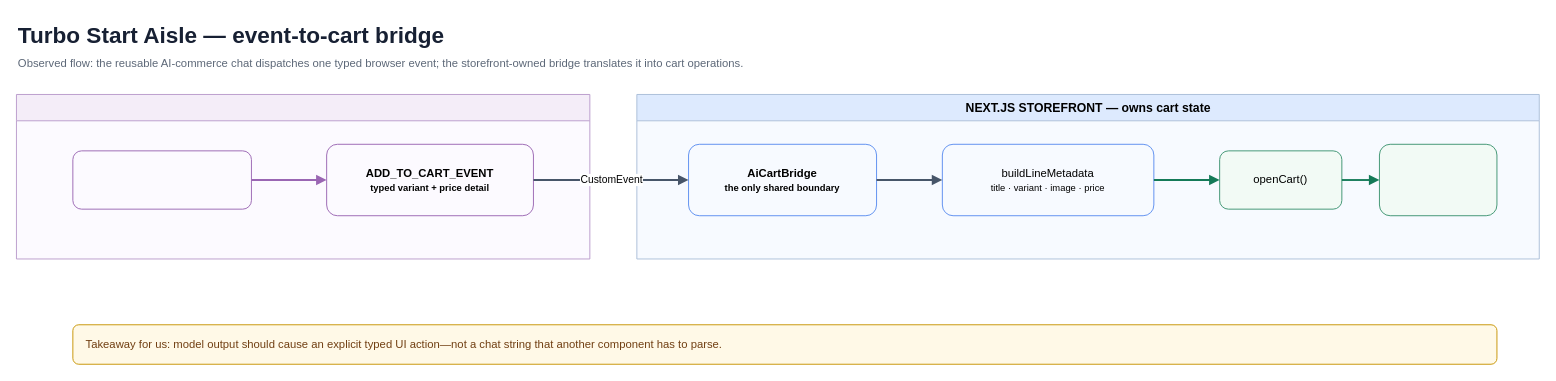
The diagram is 1556 pixels wide and 381 high, and some of its shapes have lost their labels. The shapes that lost their labels are listed below. From the top down, each one's box as (x1, y1, x2, y2) in pixels, then its label:
(72, 150, 251, 209): Chat user selects “Add to cart”
(16, 94, 590, 259): AI-COMMERCE PACKAGE
(1379, 143, 1497, 216): addLine() optimistic cart line
